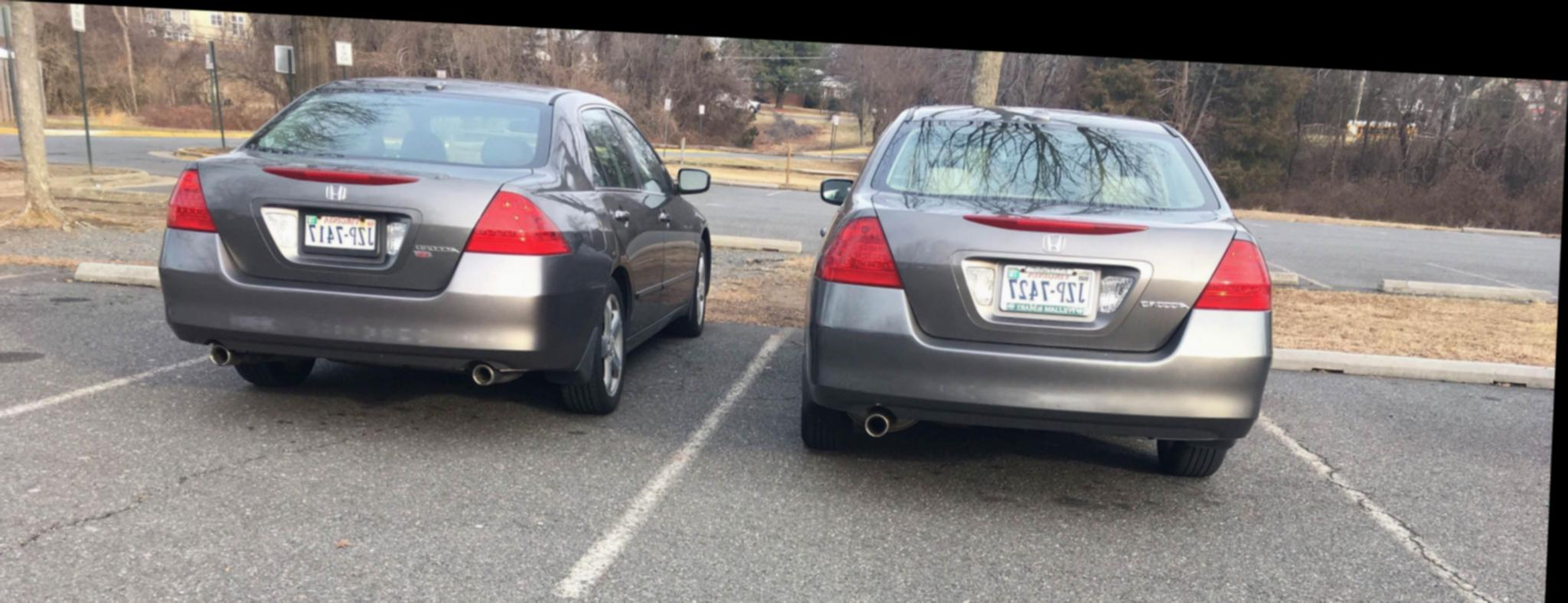License_Plate: (988, 257, 1099, 329), (290, 205, 387, 263)
